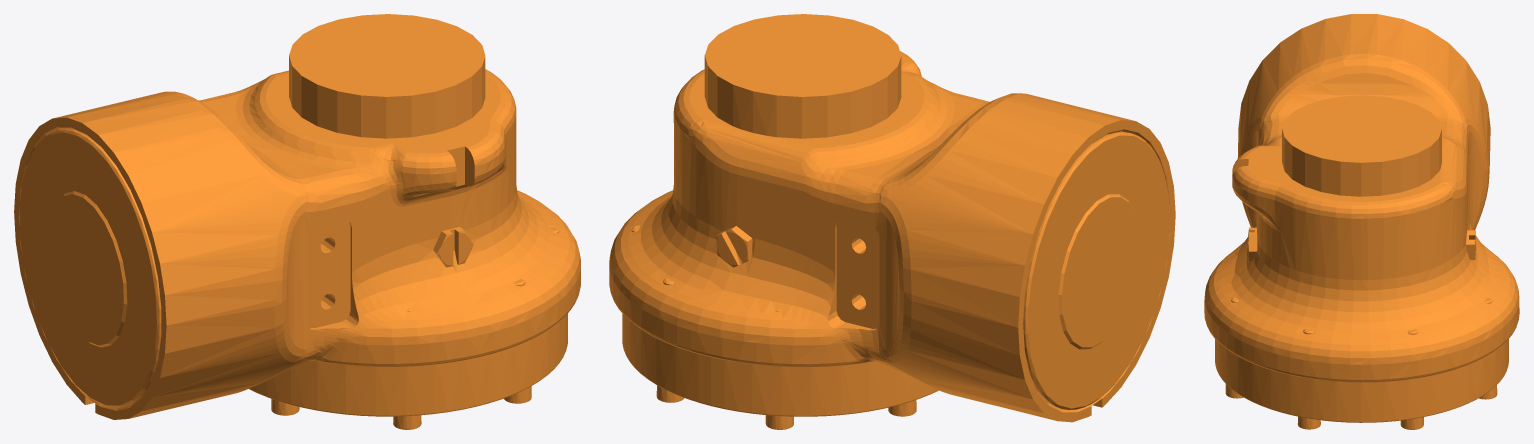
Rendered from linkhou_LR4_R560_link6_visual_vis_1.dae.
3 renders of one model, left to right at view 1: azimuth 30°, elevation 25°; view 2: azimuth 150°, elevation 25°; view 3: azimuth 270°, elevation 25°, orthographic. The views are drawn at different scales.
Parts seen in each view (by area): view 1: Node_0000029808437380; view 2: Node_0000029808437380; view 3: Node_0000029808437380.
Part boxes in pixels (left/top/right/bottom): Node_0000029808437380: left=14, top=14, right=580, bottom=429; Node_0000029808437380: left=609, top=14, right=1175, bottom=429; Node_0000029808437380: left=1204, top=14, right=1519, bottom=429.
Size of the model in its own units: 0.1046 by 0.0639 by 0.075.
